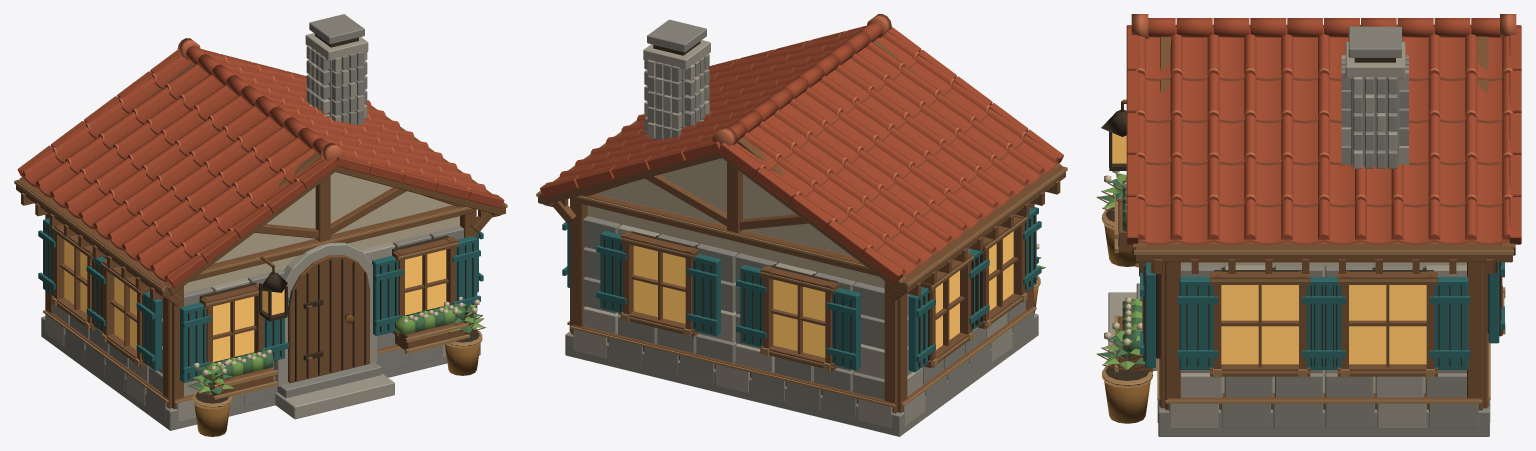
3 renders of one model, left to right at view 1: azimuth 30°, elevation 25°; view 2: azimuth 150°, elevation 25°; view 3: azimuth 270°, elevation 25°, orthographic. The views are drawn at different scales.
Visible parts, largest first — view 1: alpine_villa_1_geometry; view 2: alpine_villa_1_geometry; view 3: alpine_villa_1_geometry.
Part boxes in pixels (x1,y1,x2,y2): alpine_villa_1_geometry: [14, 14, 507, 436]; alpine_villa_1_geometry: [536, 14, 1067, 436]; alpine_villa_1_geometry: [1096, 14, 1521, 436].
Bounding box in the file's own units: 0.99 × 0.768 × 0.8157.
